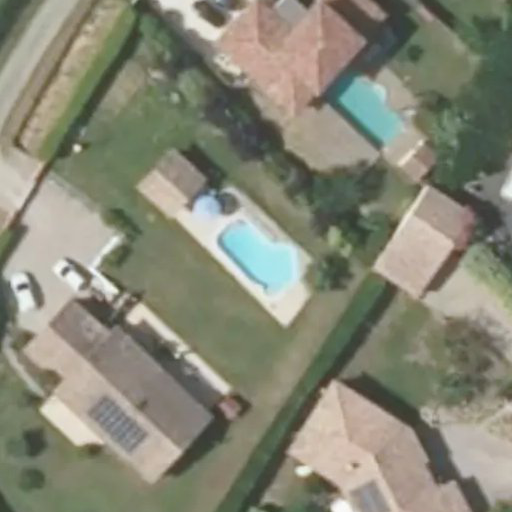pool: (211, 229, 304, 256)
